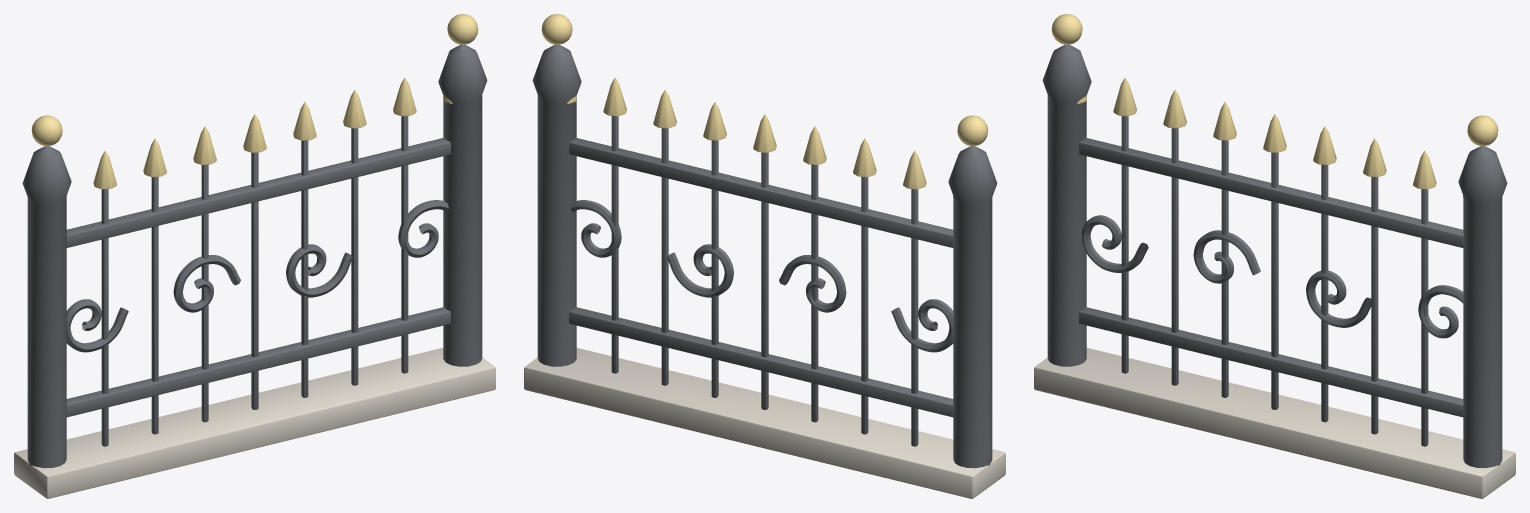
Rendered from th36_zierzaun.glb.
The picture shows the model from 3 angles, left to right: view 1: azimuth 30°, elevation 25°; view 2: azimuth 150°, elevation 25°; view 3: azimuth 330°, elevation 25°; orthographic projection.
Parts seen in each view (by area): view 1: Cube, Pfosten, Pfosten.001, Cube.001, Cube.002, Cube.007, Cube.005, Cube.009, Cube.004, Cube.008, Cube.006, Cube.010 (+13 smaller); view 2: Cube, Pfosten, Pfosten.001, Cube.001, Cube.002, Cube.007, Cube.005, Cube.009, Cube.004, Cube.008, Cube.006, Cube.010 (+13 smaller); view 3: Cube, Pfosten.001, Pfosten, Cube.001, Cube.002, Cube.005, Cube.007, Cube.009, Cube.004, Cube.008, Cube.006, Cube.010 (+13 smaller).
Boxes of the visible parts, x1=… form: Cube: x1=14, y1=348, x2=495, y2=498; Pfosten: x1=22, y1=146, x2=71, y2=468; Pfosten.001: x1=438, y1=44, x2=487, y2=366; Cube.001: x1=66, y1=307, x2=450, y2=417; Cube.002: x1=66, y1=137, x2=450, y2=247; Cube.007: x1=251, y1=152, x2=258, y2=409; Cube.005: x1=151, y1=177, x2=158, y2=434; Cube.009: x1=351, y1=128, x2=358, y2=385; Cube.004: x1=101, y1=189, x2=108, y2=446; Cube.008: x1=301, y1=140, x2=308, y2=397; Cube.006: x1=201, y1=164, x2=208, y2=422; Cube.010: x1=401, y1=116, x2=408, y2=373; Cube: x1=524, y1=348, x2=1005, y2=498; Pfosten: x1=948, y1=146, x2=997, y2=468; Pfosten.001: x1=532, y1=44, x2=581, y2=366; Cube.001: x1=569, y1=307, x2=953, y2=417; Cube.002: x1=569, y1=137, x2=953, y2=247; Cube.007: x1=761, y1=152, x2=768, y2=409; Cube.005: x1=861, y1=177, x2=868, y2=434; Cube.009: x1=661, y1=128, x2=668, y2=385; Cube.004: x1=911, y1=189, x2=918, y2=446; Cube.008: x1=711, y1=140, x2=718, y2=397; Cube.006: x1=811, y1=164, x2=818, y2=422; Cube.010: x1=611, y1=116, x2=618, y2=373; Cube: x1=1034, y1=348, x2=1515, y2=498; Pfosten.001: x1=1458, y1=146, x2=1507, y2=468; Pfosten: x1=1042, y1=44, x2=1091, y2=366; Cube.001: x1=1079, y1=307, x2=1463, y2=417; Cube.002: x1=1079, y1=137, x2=1463, y2=247; Cube.005: x1=1171, y1=128, x2=1178, y2=385; Cube.007: x1=1271, y1=152, x2=1278, y2=409; Cube.009: x1=1371, y1=177, x2=1378, y2=434; Cube.004: x1=1121, y1=116, x2=1128, y2=373; Cube.008: x1=1321, y1=164, x2=1328, y2=422; Cube.006: x1=1221, y1=140, x2=1228, y2=397; Cube.010: x1=1421, y1=189, x2=1428, y2=446.
Bounding box in the file's own units: 2.04 × 1.56 × 0.26.
